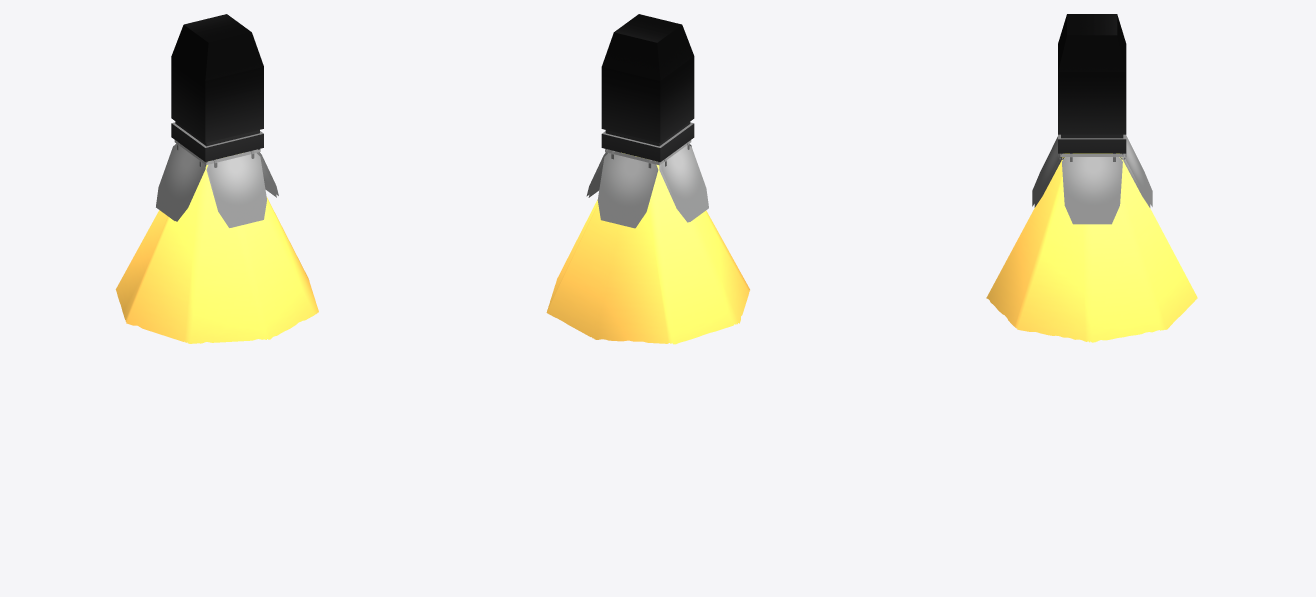
File: LIT0110009.fbx
The picture shows the model from 3 angles, left to right: view 1: azimuth 30°, elevation 25°; view 2: azimuth 150°, elevation 25°; view 3: azimuth 270°, elevation 25°; orthographic projection.
Parts seen in each view (by area): view 1: smLIT0110009; view 2: smLIT0110009; view 3: smLIT0110009.
Part boxes in pixels (x1,y1,x2,y2): smLIT0110009: (115,14,318,343); smLIT0110009: (546,14,749,344); smLIT0110009: (986,14,1197,342).
Bounding box in the file's own units: 200 × 247 × 200.
Materials: 1 (1 with a texture image).
